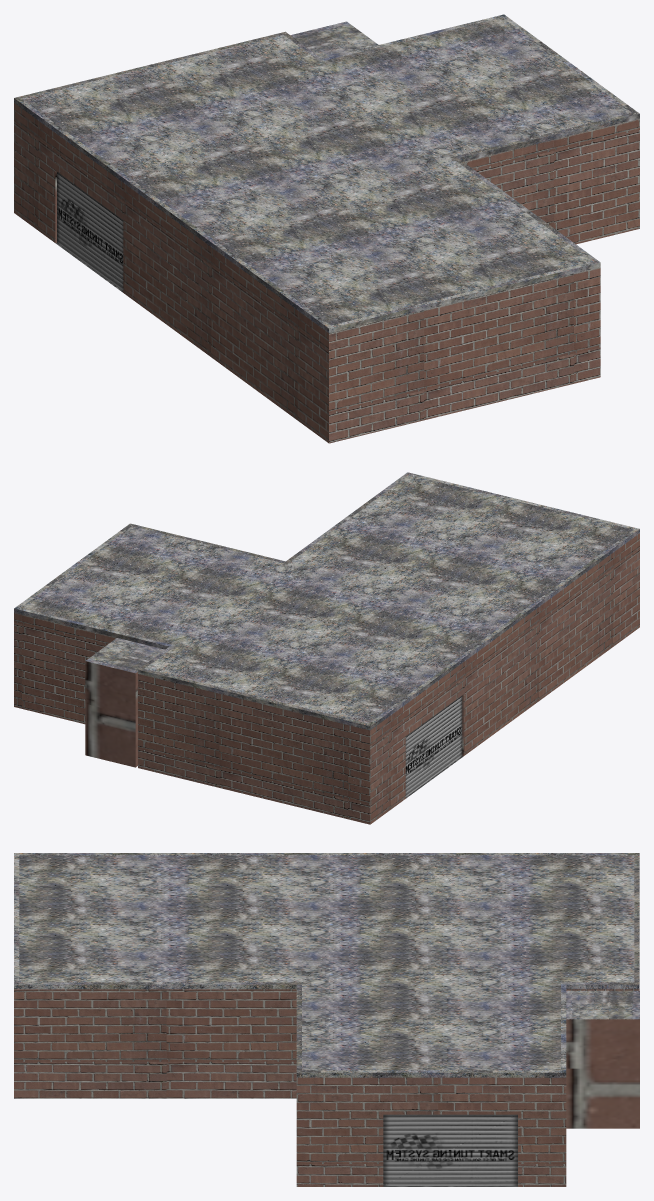
The model's file is WorkShop2.fbx.
The picture shows the model from 3 angles, top to bottom: view 1: azimuth 30°, elevation 25°; view 2: azimuth 150°, elevation 25°; view 3: azimuth 270°, elevation 25°; orthographic projection. The views are drawn at different scales.
Parts seen in each view (by area): view 1: ExteriorWall, RoolDoor; view 2: ExteriorWall, WorkShopInterior, RoolDoor; view 3: ExteriorWall, RoolDoor, WorkShopInterior.
Part boxes in pixels (left/top/right/bottom): ExteriorWall: left=14, top=14, right=639, bottom=443; RoolDoor: left=57, top=172, right=123, bottom=290; ExteriorWall: left=14, top=472, right=639, bottom=824; WorkShopInterior: left=85, top=661, right=463, bottom=798; RoolDoor: left=405, top=695, right=462, bottom=796; ExteriorWall: left=14, top=853, right=639, bottom=1186; RoolDoor: left=383, top=1114, right=517, bottom=1186; WorkShopInterior: left=383, top=1019, right=639, bottom=1186.
Bounding box in the file's own units: 4062 × 1007 × 4893.
Materials: 9 (9 with a texture image).
